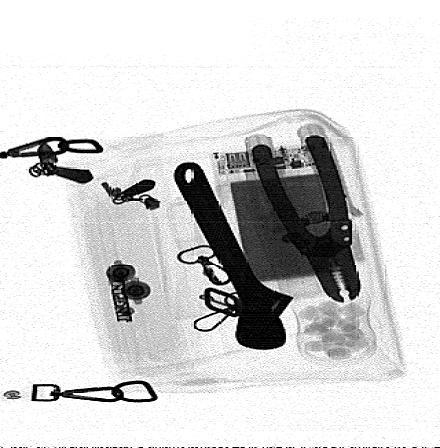Pliers: (249, 135, 363, 304)
Powerbank: (207, 141, 363, 300)
Wrench: (170, 161, 294, 350)
